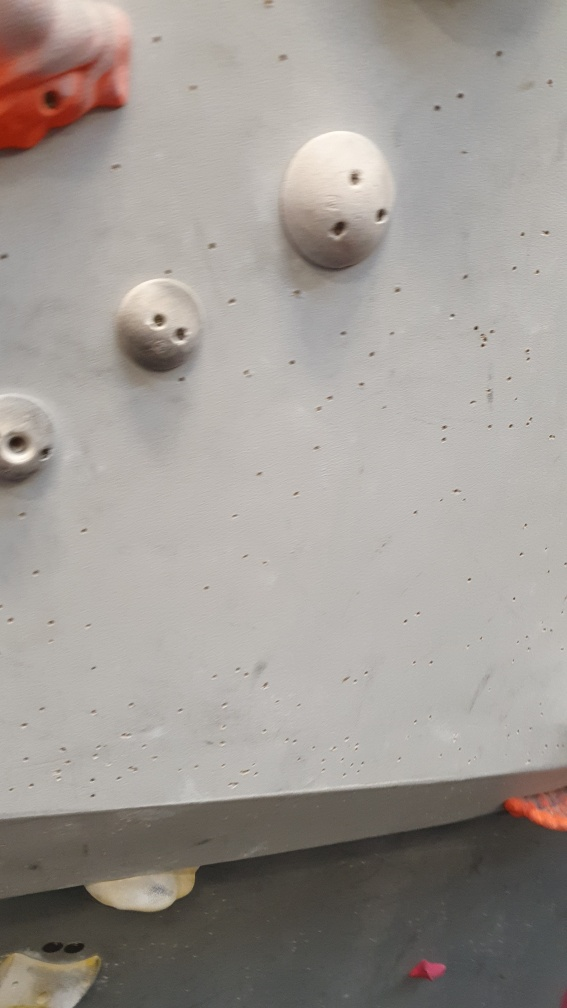Hand Start: (63, 939, 85, 960), (40, 938, 63, 954)
Jug: (499, 775, 567, 833)
Sloper: (274, 118, 404, 274), (114, 278, 211, 372), (1, 388, 61, 485)
